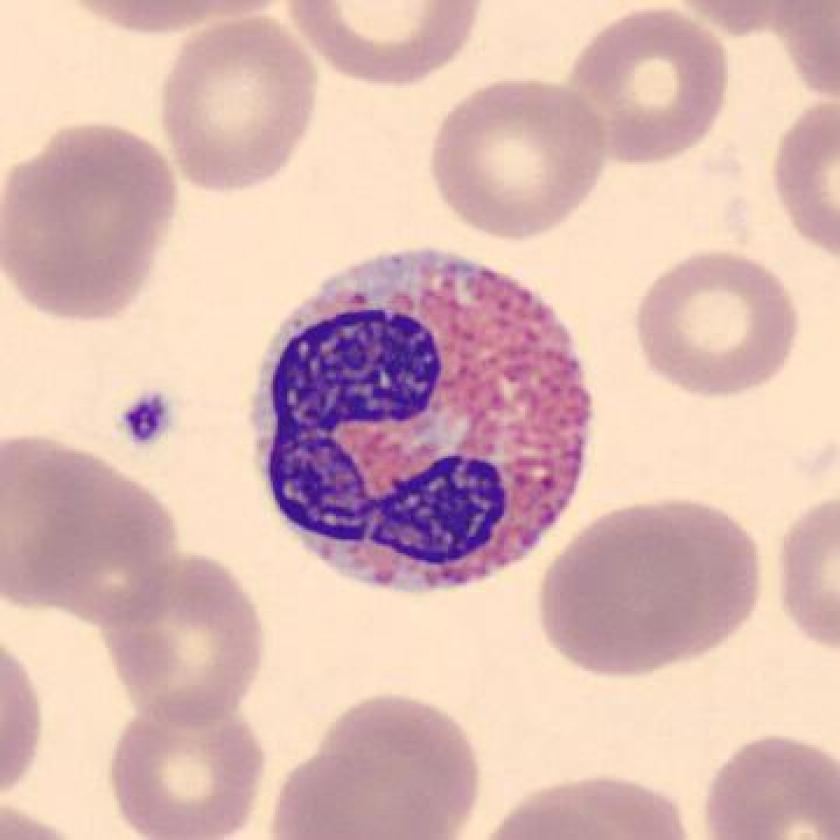eosinophil: (237, 237, 605, 610)
